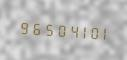five: (39, 18, 49, 38)
four: (61, 19, 71, 40)
nine: (17, 16, 27, 37)
one: (72, 20, 82, 41), (94, 22, 104, 42)
six: (28, 17, 38, 38)
zero: (83, 21, 93, 42), (50, 19, 60, 39)
